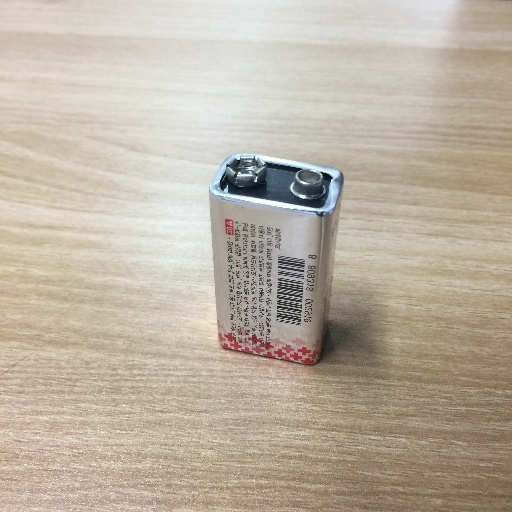Battery_3: (191, 129, 355, 389)
